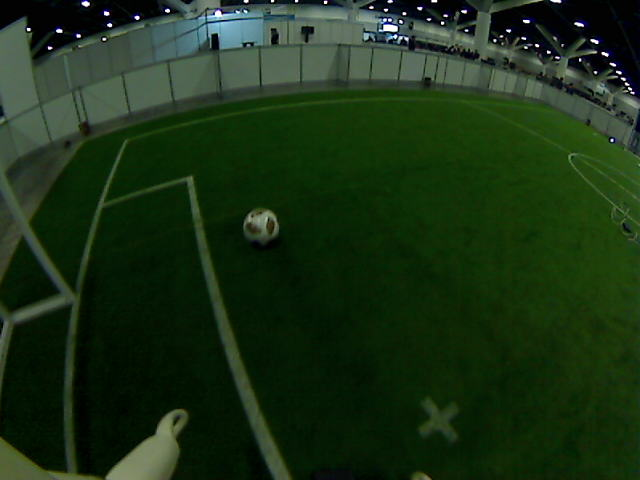ball: (241, 206, 281, 246)
goalpost: (41, 240, 100, 299)
